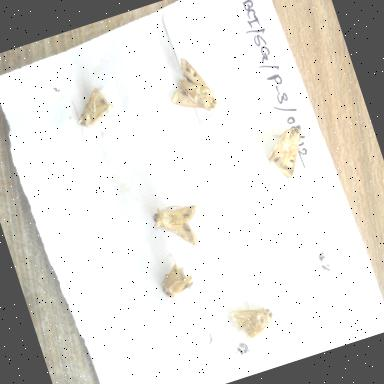abw: (156, 47, 226, 132), (254, 110, 326, 188), (142, 188, 215, 261), (62, 72, 126, 144), (223, 288, 293, 348), (146, 243, 205, 310)
